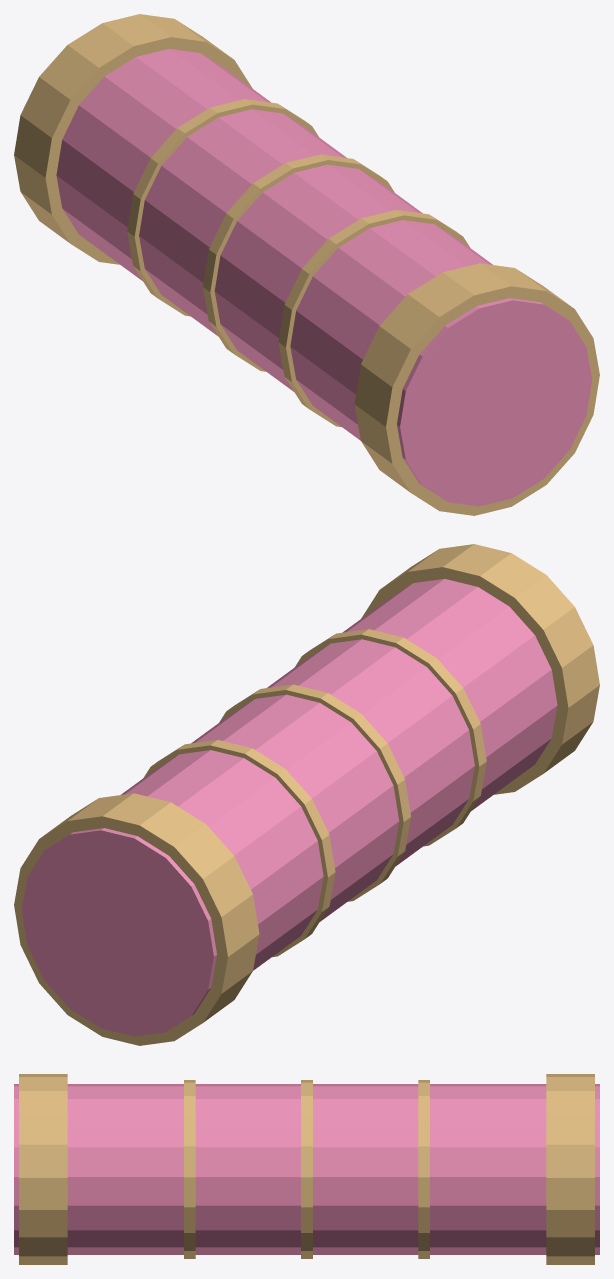
Rendered from Suppressor.obj.
The picture shows the model from 3 angles, top to bottom: view 1: azimuth 30°, elevation 25°; view 2: azimuth 150°, elevation 25°; view 3: azimuth 270°, elevation 25°; orthographic projection. The views are drawn at different scales.
Parts seen in each view (by area): view 1: Suppressor_Body, Suppressor_Detail; view 2: Suppressor_Body, Suppressor_Detail; view 3: Suppressor_Body, Suppressor_Detail.
Part boxes in pixels (<box>): Suppressor_Body: <box>56,49,591,506</box>; Suppressor_Detail: <box>14,14,599,515</box>; Suppressor_Body: <box>22,579,557,1036</box>; Suppressor_Detail: <box>14,544,599,1045</box>; Suppressor_Body: <box>14,1084,599,1254</box>; Suppressor_Detail: <box>19,1074,594,1264</box>.
Size of the model in its own units: 0.196 by 0.193 by 0.6.
